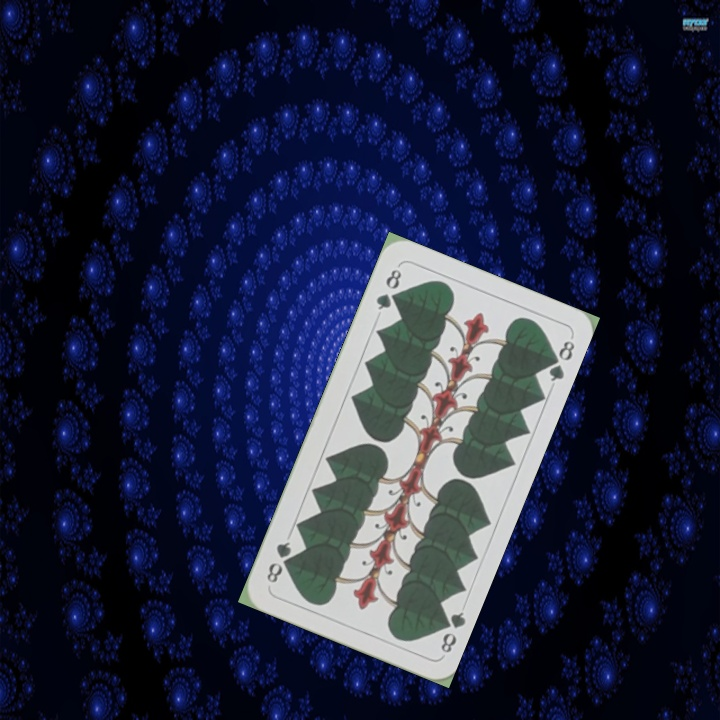G8: (434, 607, 468, 656), (371, 264, 404, 313)
